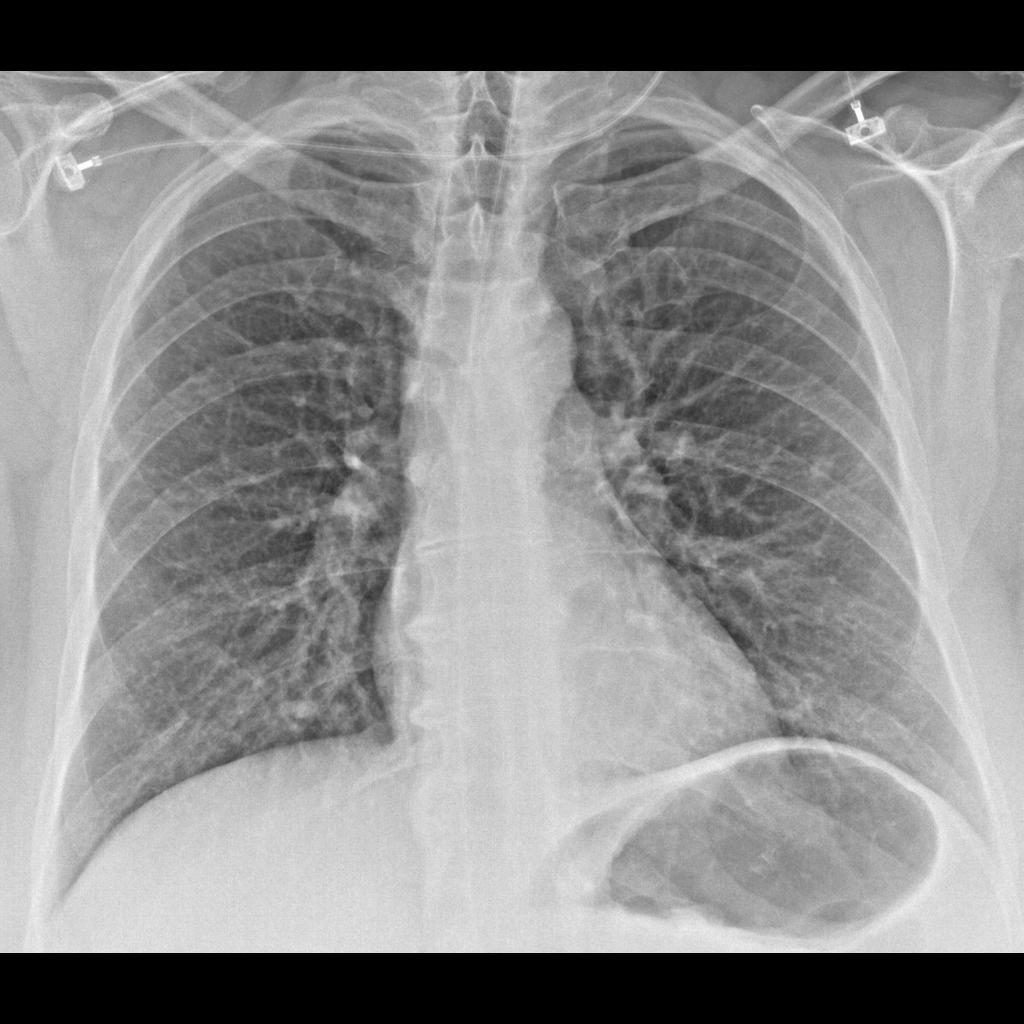Nodule: (805, 446, 845, 493)
